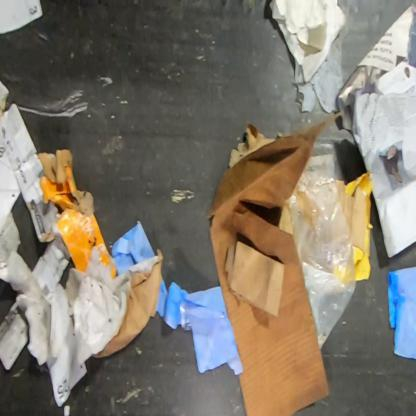cardboard: (208, 112, 341, 416), (70, 244, 164, 366), (38, 150, 117, 280), (335, 179, 367, 256)
soft_plastic: (287, 165, 357, 352)
